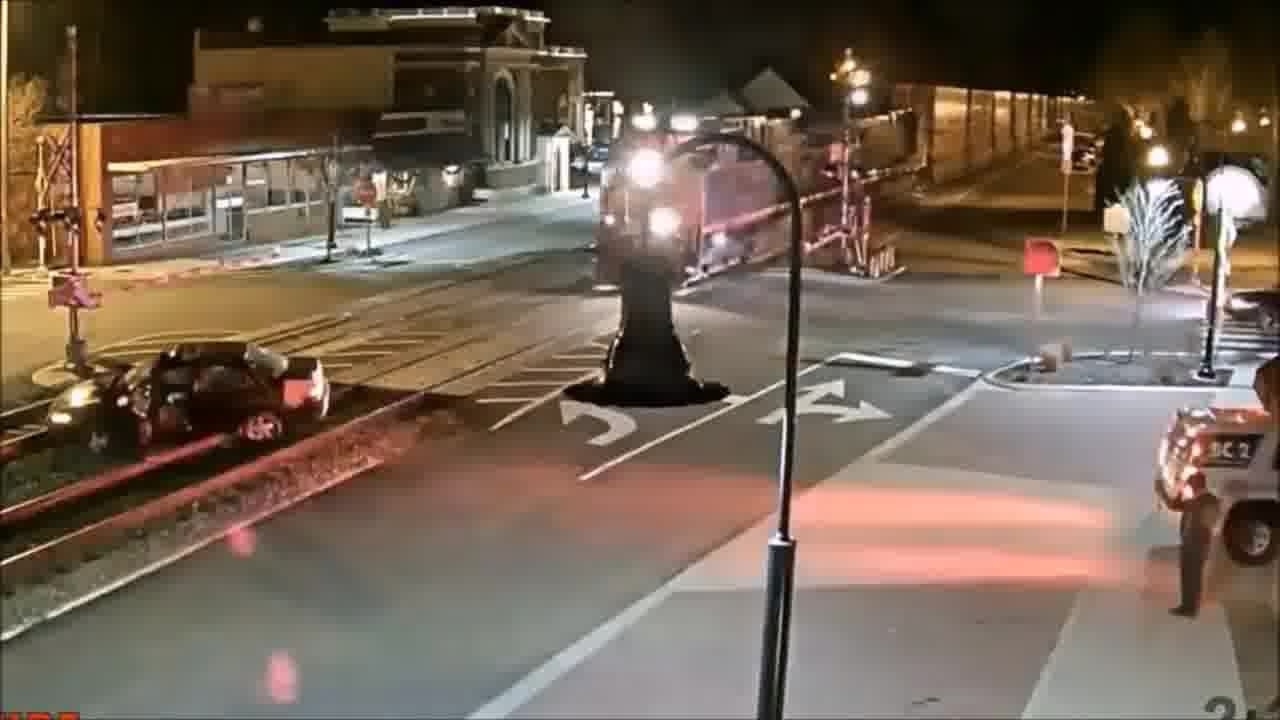crossing railway track: (31, 336, 356, 463)
